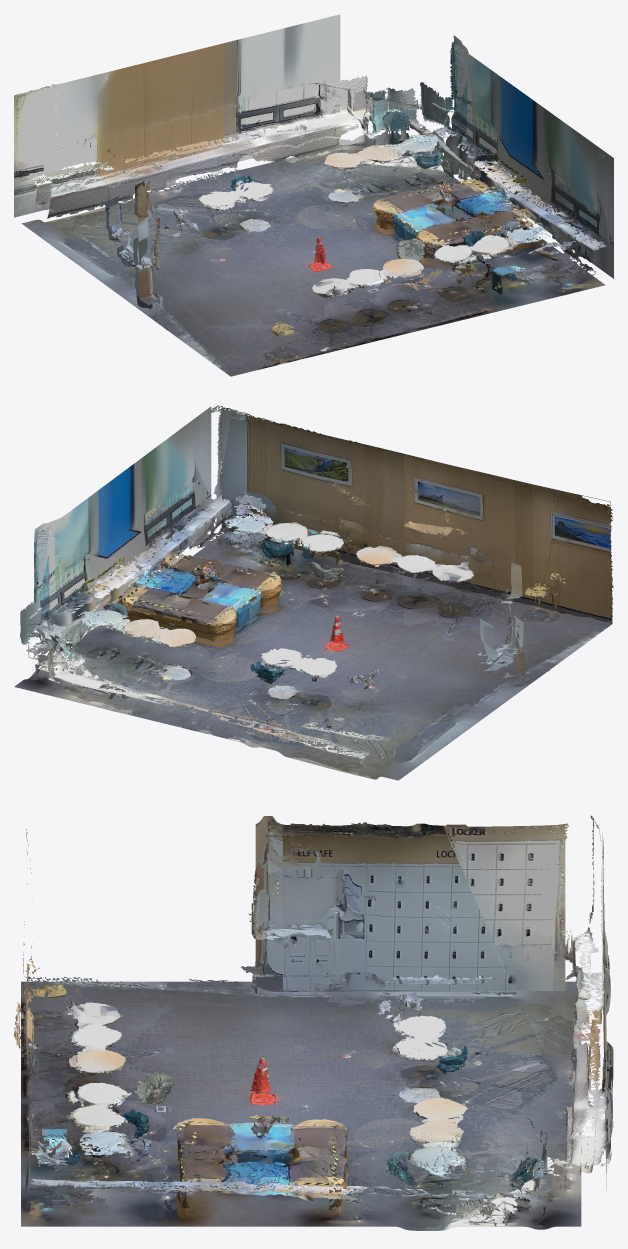
The model's file is map-2026-11-16-1331.glb.
The picture shows the model from 3 angles, top to bottom: view 1: azimuth 30°, elevation 25°; view 2: azimuth 150°, elevation 25°; view 3: azimuth 270°, elevation 25°; orthographic projection. The views are drawn at different scales.
Parts seen in each view (by area): view 1: backing_floor, backing_wall_2, textured_0000, backing_wall_3, unobserved_neutral, textured_0001, furniture_plane_0, furniture_plane_1, backing_wall_1, furniture_plane_2, furniture_plane_3, furniture_plane_4; view 2: backing_floor, backing_wall_0, textured_0000, backing_wall_3, unobserved_neutral, textured_0001, furniture_plane_0, backing_wall_1, furniture_plane_1, furniture_plane_2, furniture_plane_3, furniture_plane_4; view 3: backing_floor, backing_wall_1, textured_0000, unobserved_neutral, textured_0001, furniture_plane_0, furniture_plane_1, furniture_plane_3, furniture_plane_2, backing_wall_2, furniture_plane_4, backing_wall_0.
Boxes of the visible parts, x1,y1,x2,y2 form: backing_floor: (21, 132, 605, 376); backing_wall_2: (14, 14, 340, 217); textured_0000: (16, 75, 607, 370); backing_wall_3: (445, 35, 613, 278); unobserved_neutral: (18, 86, 609, 335); textured_0001: (33, 42, 609, 371); furniture_plane_0: (373, 190, 473, 245); furniture_plane_1: (312, 258, 423, 294); backing_wall_1: (90, 142, 152, 309); furniture_plane_2: (434, 235, 511, 262); furniture_plane_3: (199, 182, 273, 209); furniture_plane_4: (324, 146, 390, 169); backing_floor: (14, 532, 612, 780); backing_wall_0: (221, 410, 612, 623); textured_0000: (32, 424, 610, 768); backing_wall_3: (34, 406, 211, 654); unobserved_neutral: (23, 405, 564, 759); textured_0001: (20, 406, 613, 751); furniture_plane_0: (175, 566, 280, 625); backing_wall_1: (391, 561, 524, 757); furniture_plane_1: (356, 546, 473, 580); furniture_plane_2: (266, 523, 343, 551); furniture_plane_3: (261, 648, 336, 675); furniture_plane_4: (132, 620, 195, 646); backing_floor: (21, 981, 581, 1230); backing_wall_1: (255, 816, 565, 991); textured_0000: (23, 815, 611, 1222); unobserved_neutral: (14, 822, 613, 1218); textured_0001: (23, 824, 597, 1226); furniture_plane_0: (173, 1118, 347, 1152); furniture_plane_1: (76, 1002, 125, 1072); furniture_plane_3: (394, 1015, 447, 1059); furniture_plane_2: (76, 1082, 131, 1127); backing_wall_2: (602, 832, 613, 1190); furniture_plane_4: (409, 1097, 467, 1133); backing_wall_0: (24, 946, 32, 1193).
Size of the model in its own units: 8.7 by 2.7 by 8.48.
Materials: 23 (22 with a texture image).
